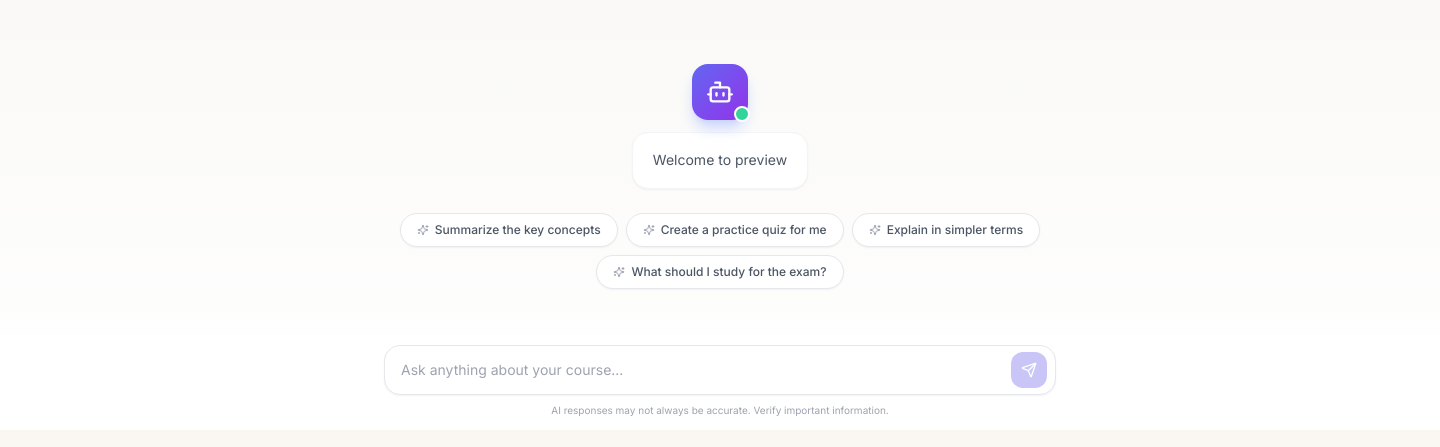
Test: ChatbotChat › sends preview mode chat requests to the teacher endpoint
This screenshot has width=1440, height=447.
In the text box with placeholder "Ask anything about your course...": (698, 370) top-left (393, 352), bottom-right (1003, 388), type "  Explain photosynthesis  "
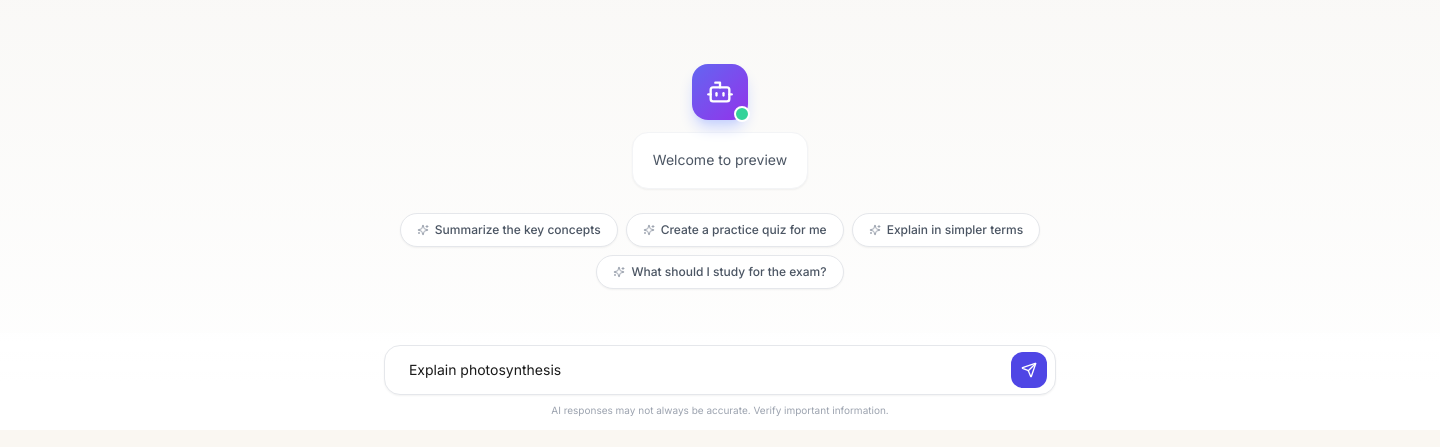
Click the button named "Send message": (1029, 370) top-left (1011, 352), bottom-right (1047, 388)
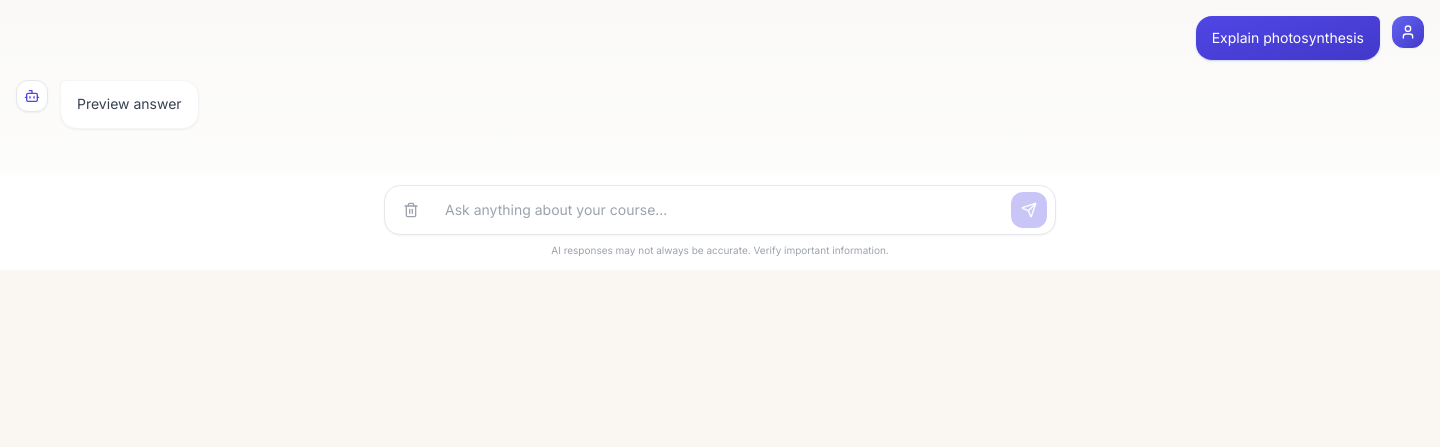
Expected: the text "Preview answer" is shown, top-left (77, 93), bottom-right (182, 116)
